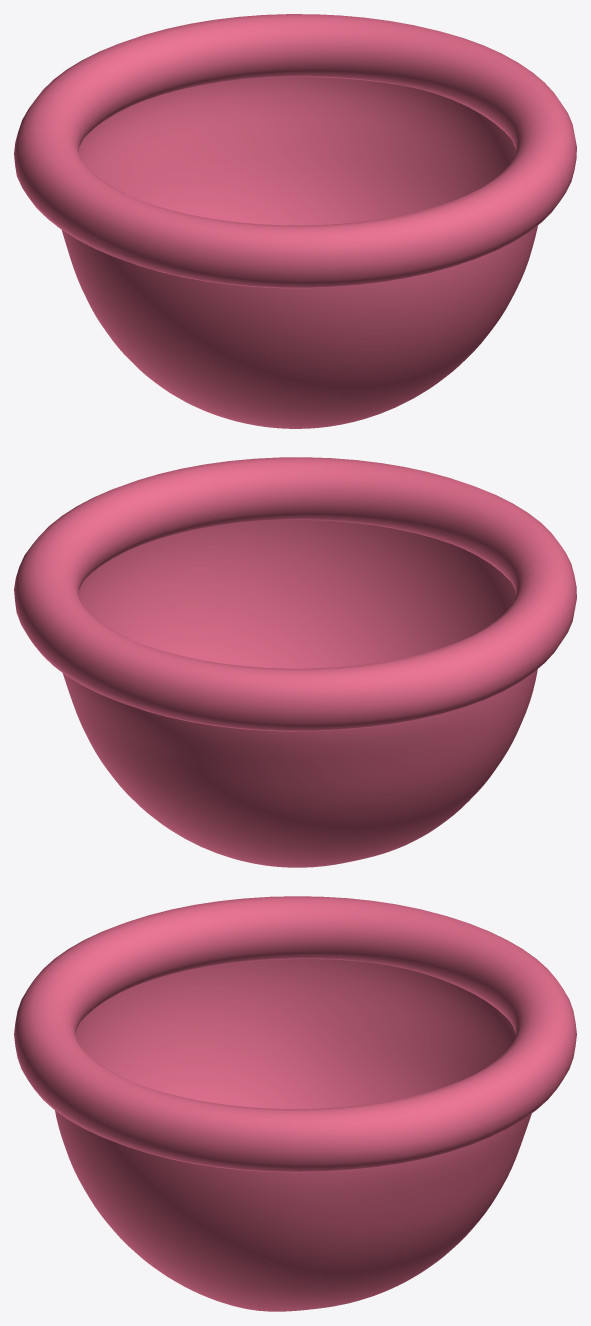
The model's file is Disc.fbx.
3 renders of one model, top to bottom at view 1: azimuth 30°, elevation 25°; view 2: azimuth 150°, elevation 25°; view 3: azimuth 270°, elevation 25°, orthographic.
Parts seen in each view (by area): view 1: Sphere; view 2: Sphere; view 3: Sphere.
Boxes of the visible parts, <box> form: Sphere: <box>14,14,576,428</box>; Sphere: <box>14,457,576,867</box>; Sphere: <box>14,896,576,1311</box>.
Size of the model in its own units: 85.93 by 47.54 by 85.66.
